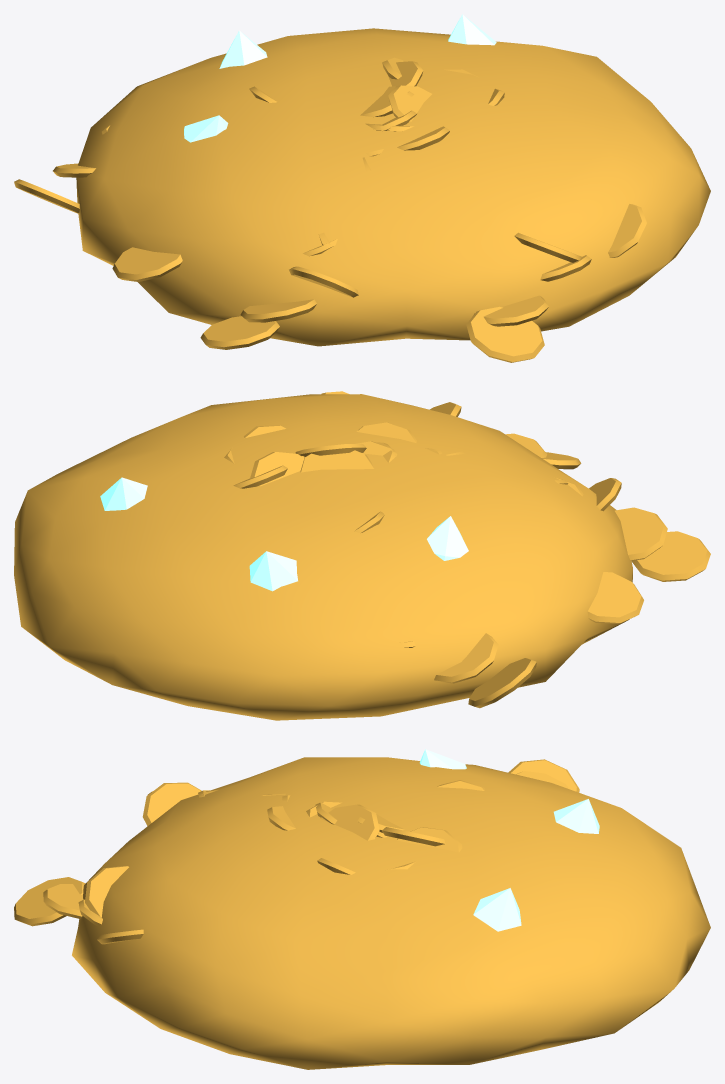
File: treasure.glb
3 views of the same model, one above another, from view 1: azimuth 30°, elevation 25°; view 2: azimuth 150°, elevation 25°; view 3: azimuth 270°, elevation 25° (orthographic).
Parts seen in each view (by area): view 1: treasure; view 2: treasure; view 3: treasure.
Boxes of the visible parts, x1=… form: treasure: x1=14, y1=14, x2=710, y2=362; treasure: x1=14, y1=391, x2=710, y2=720; treasure: x1=14, y1=749, x2=710, y2=1069.
Bounding box in the file's own units: 1.78 × 0.4232 × 1.89.
